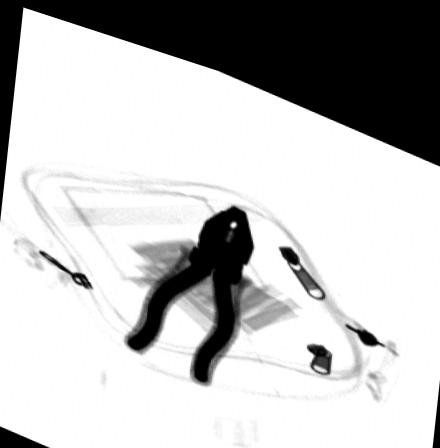Pliers: (120, 187, 256, 371)
